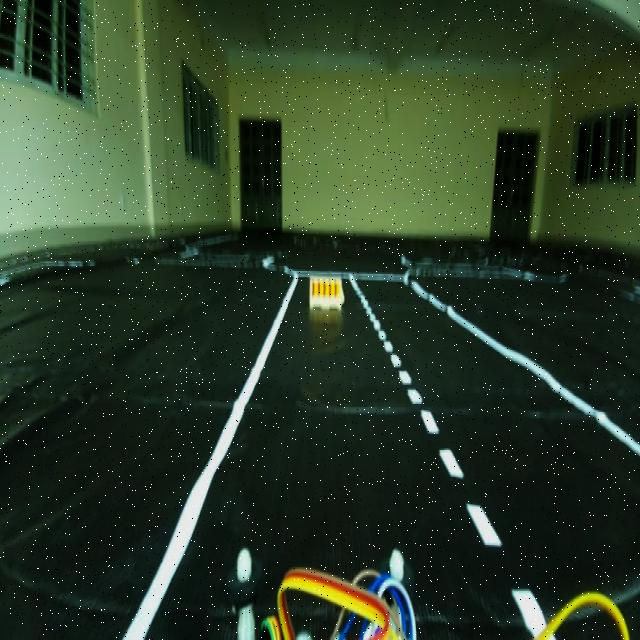roadblock: (305, 272, 349, 316)
